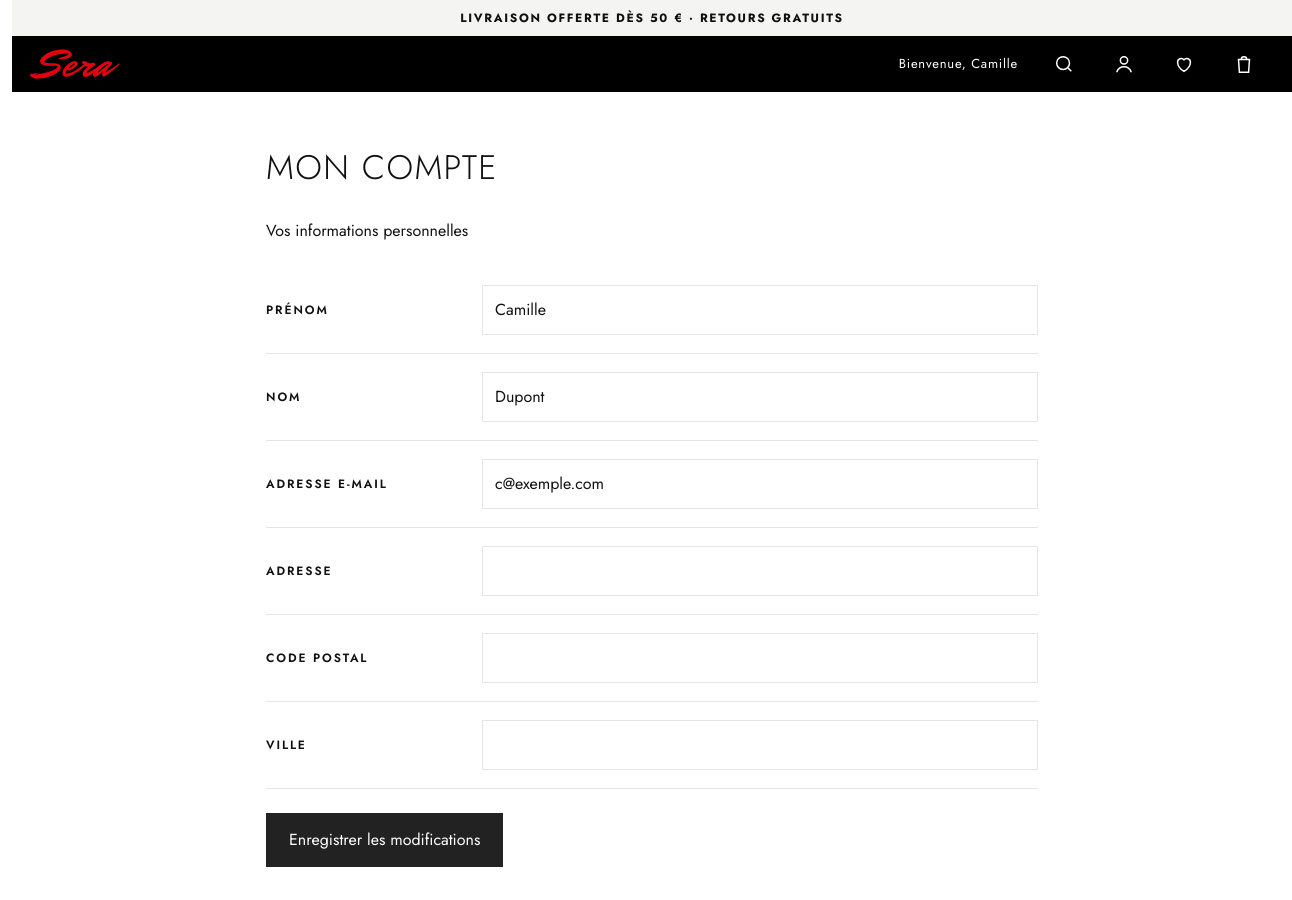
Test case: Page Mon compte › déconnexion depuis /mon-compte : retour à l'accueil, sans modal de connexion
Expected: the heading "Mon compte" is shown, top-left (266, 143), bottom-right (498, 192)
Step 1. Click the button named "Mon compte" → (1124, 64), box top-left (1102, 42), bottom-right (1146, 86)
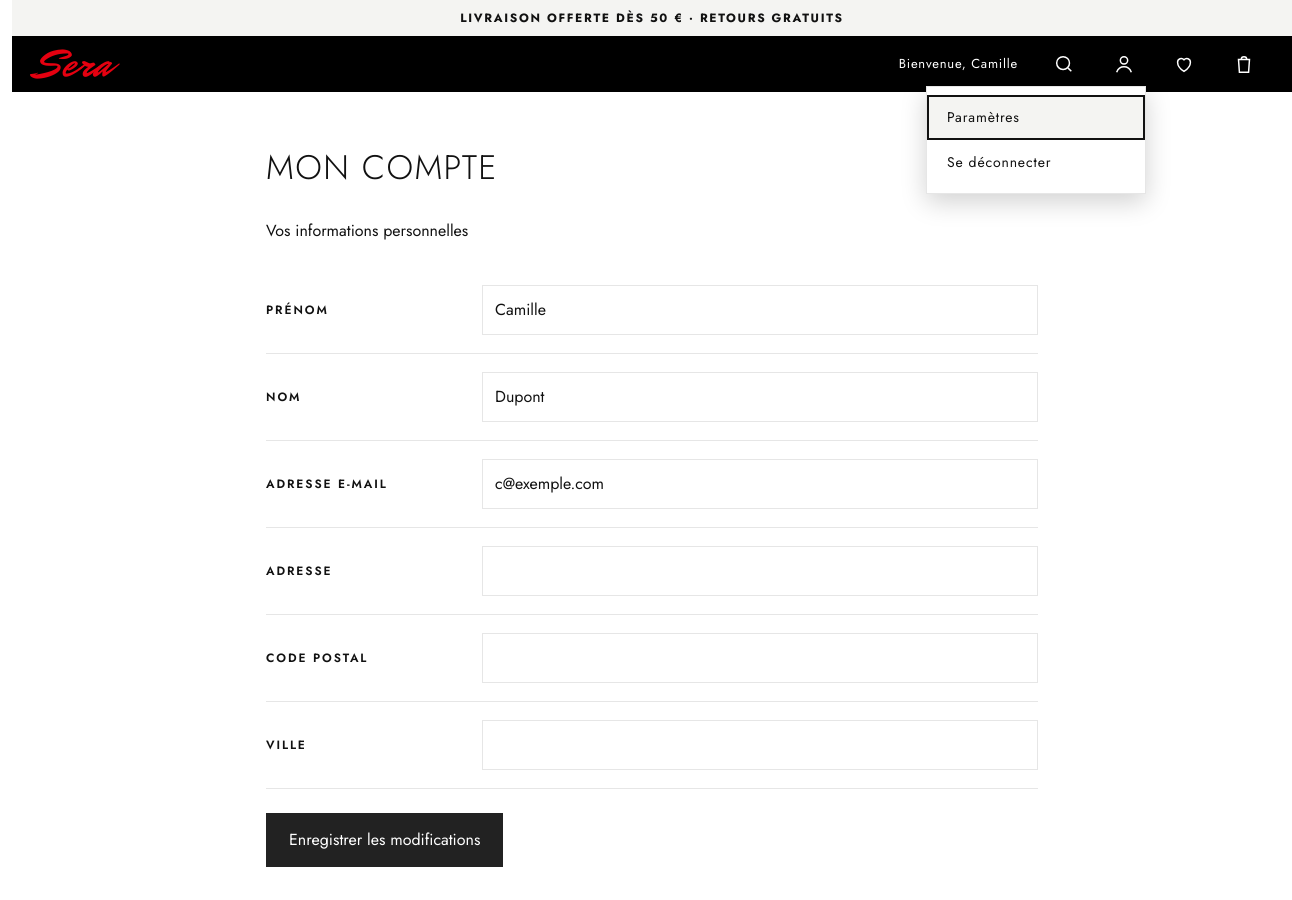
Step 2. Click the button "Se déconnecter" → (1036, 162), box top-left (927, 140), bottom-right (1145, 185)
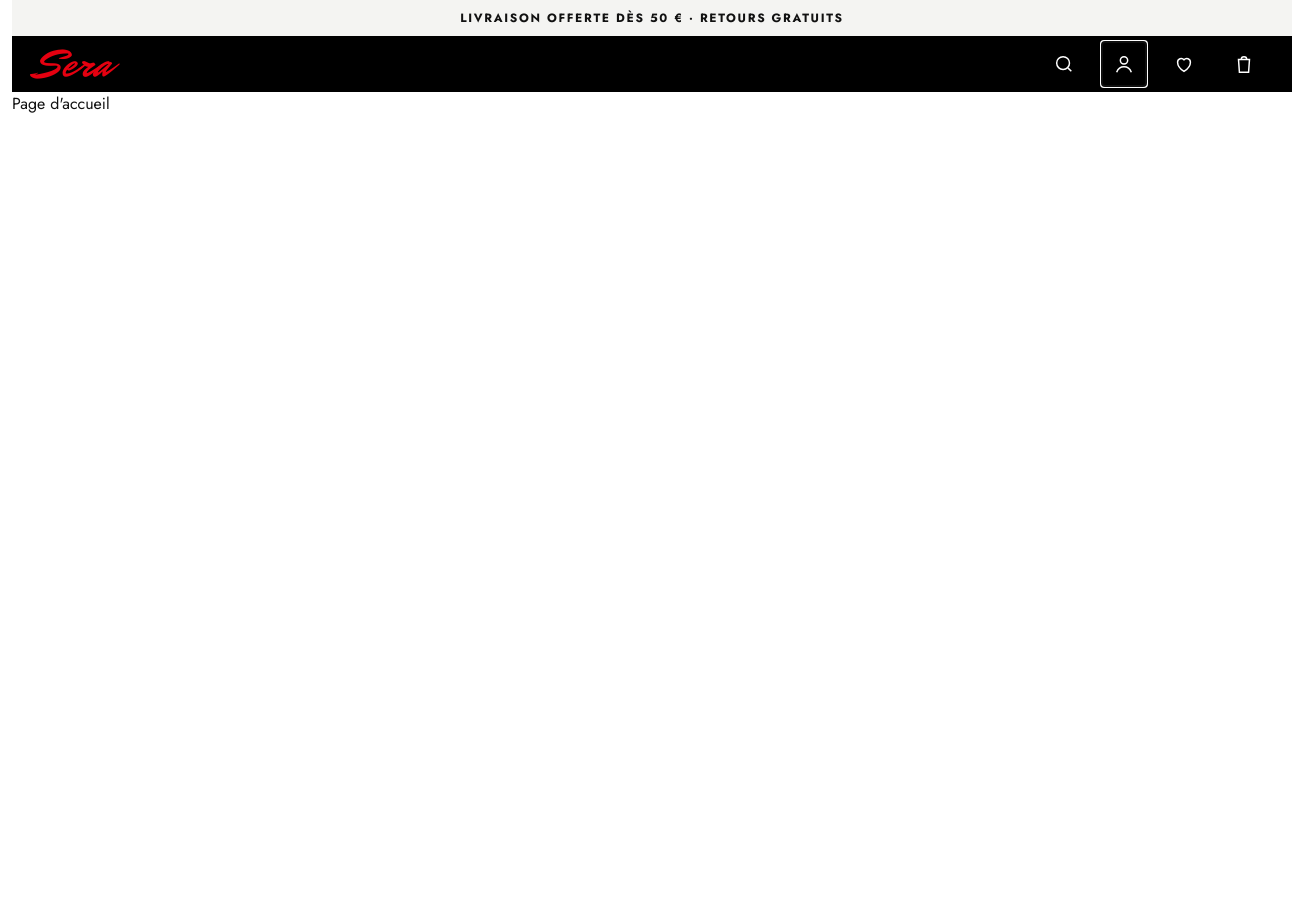
Result: the text "Page d'accueil" is shown at top-left (12, 92), bottom-right (110, 115)
Result: the text "Bienvenue" is gone
Result: the heading "Mon compte" is gone
